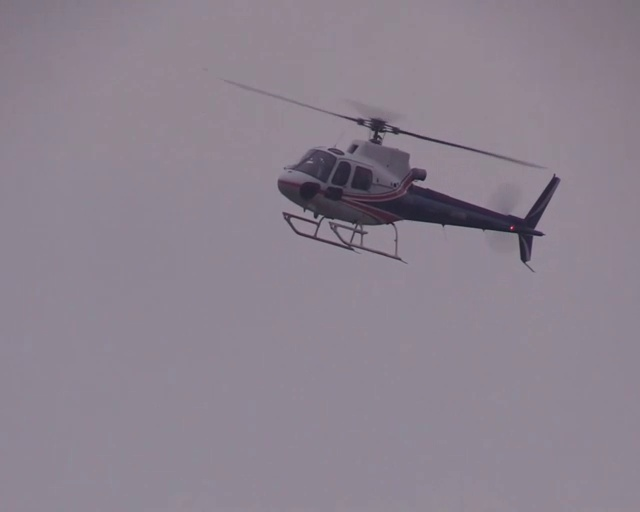HELICOPTER: (214, 79, 563, 270)
